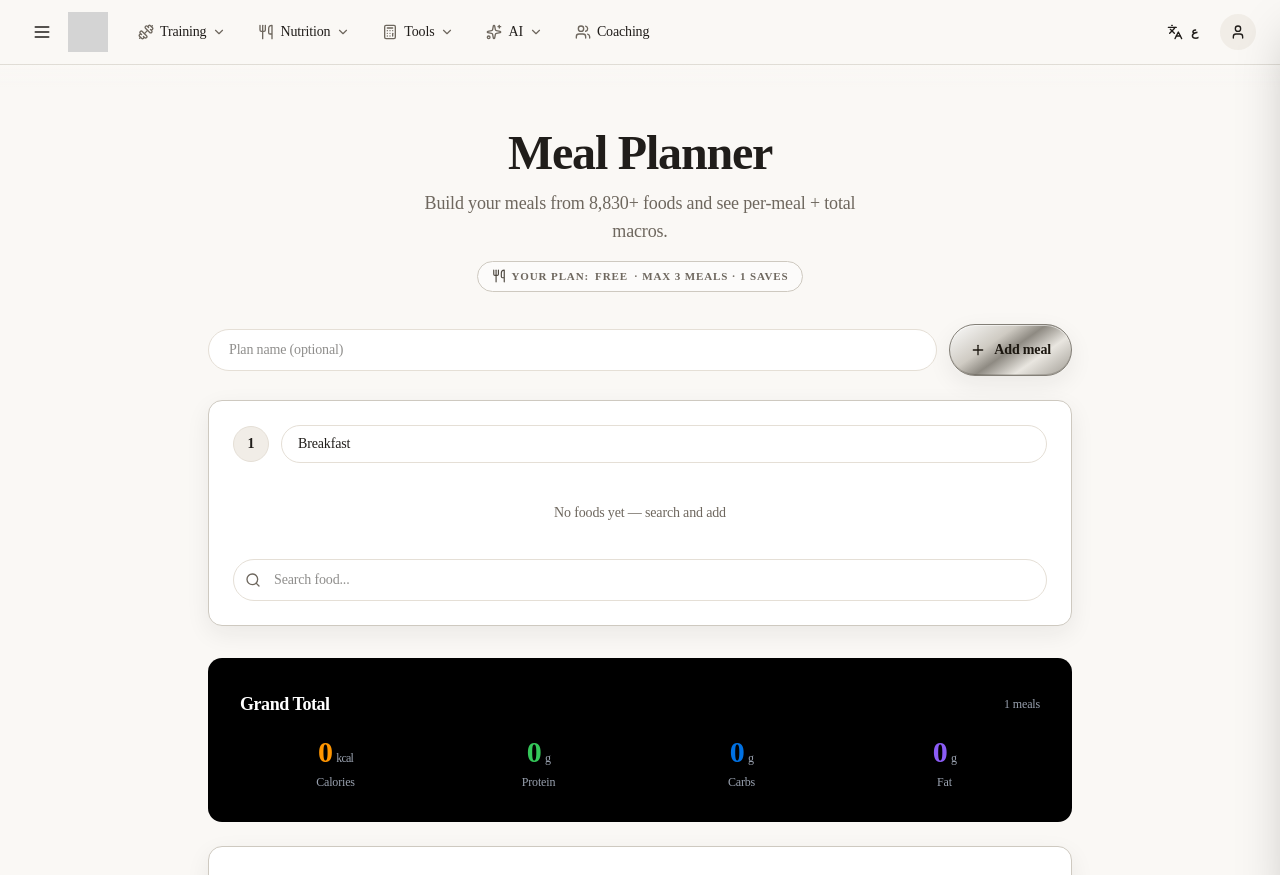
Test: W1-4c behavior — the real page through the B-03 race › clearing the query mid-flight: request aborted, surface reset, spinner dropped
Type "chick" into the field with placeholder "بحث عن صنف غذائي..." at (640, 580), box [233,558,1047,600]
Wait 300 ms
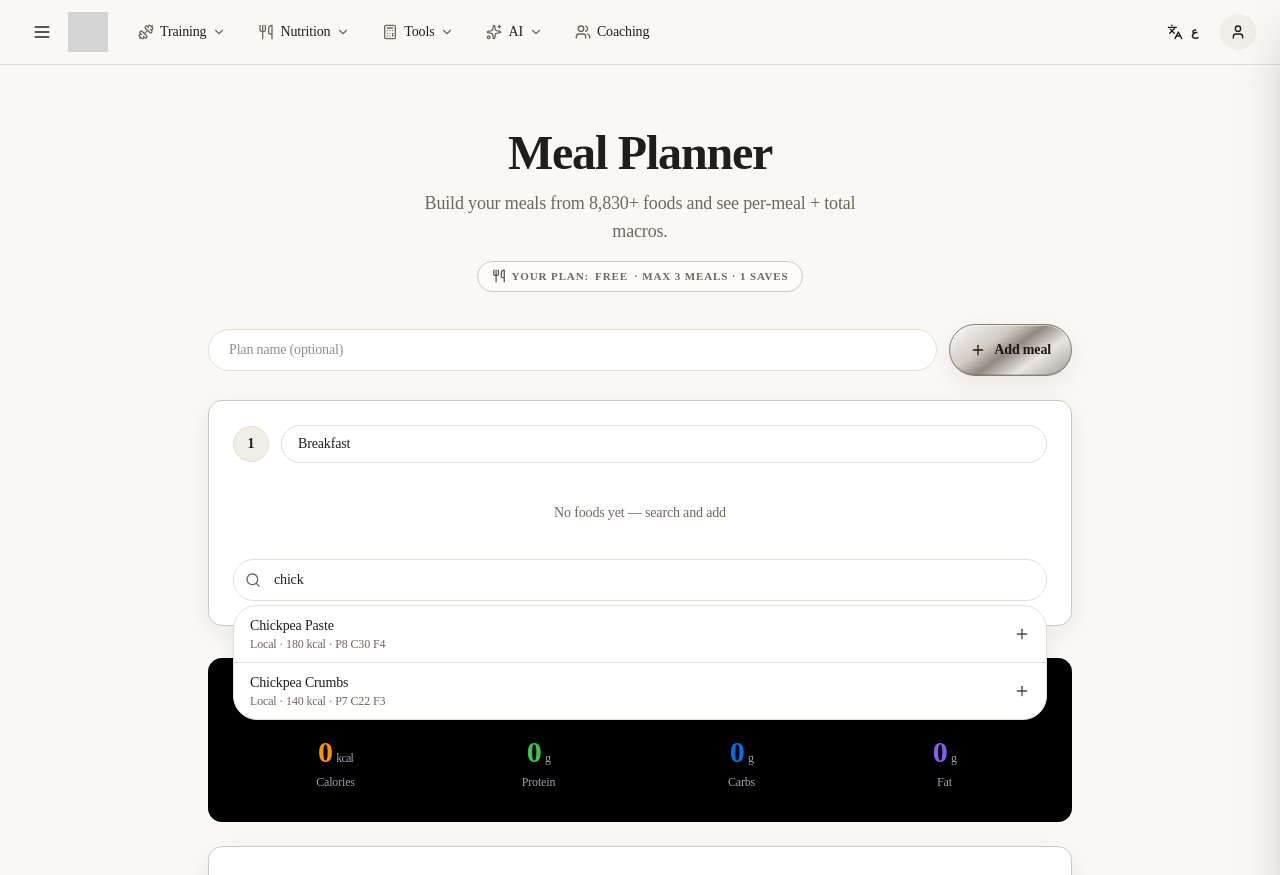
expect the element with class "z-20" is shown: met, box [233,604,1047,720]
Replace the text in the 2nd field with placeholder "بحث عن صنف غذائي..." with "chicken" at (640, 580), box [233,558,1047,600]
Wait 300 ms
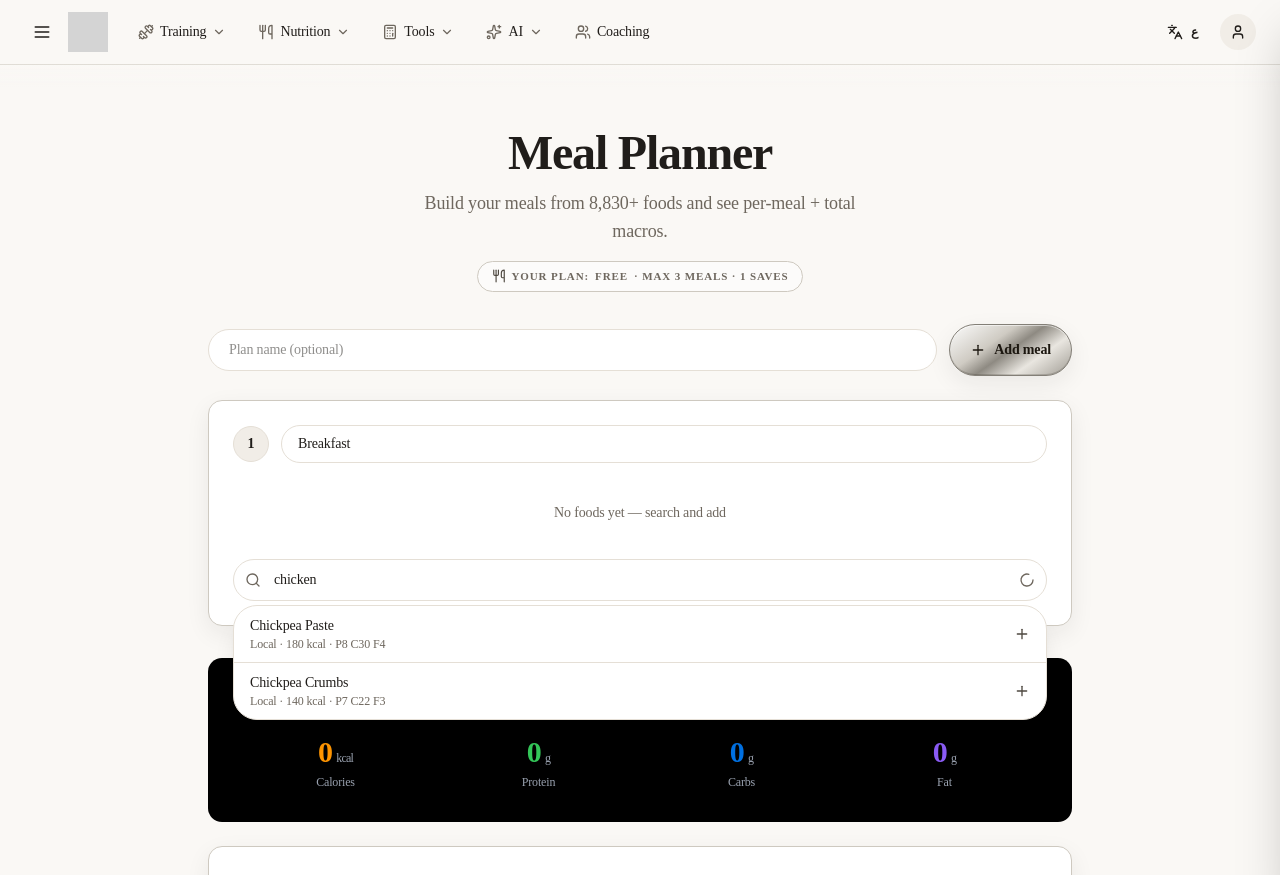
expect the icon with class "animate-spin" is shown: met, box [1019,572,1035,588]
Clear the 2nd field with placeholder "بحث عن صنف غذائي..." at (640, 580), box [233,558,1047,600]
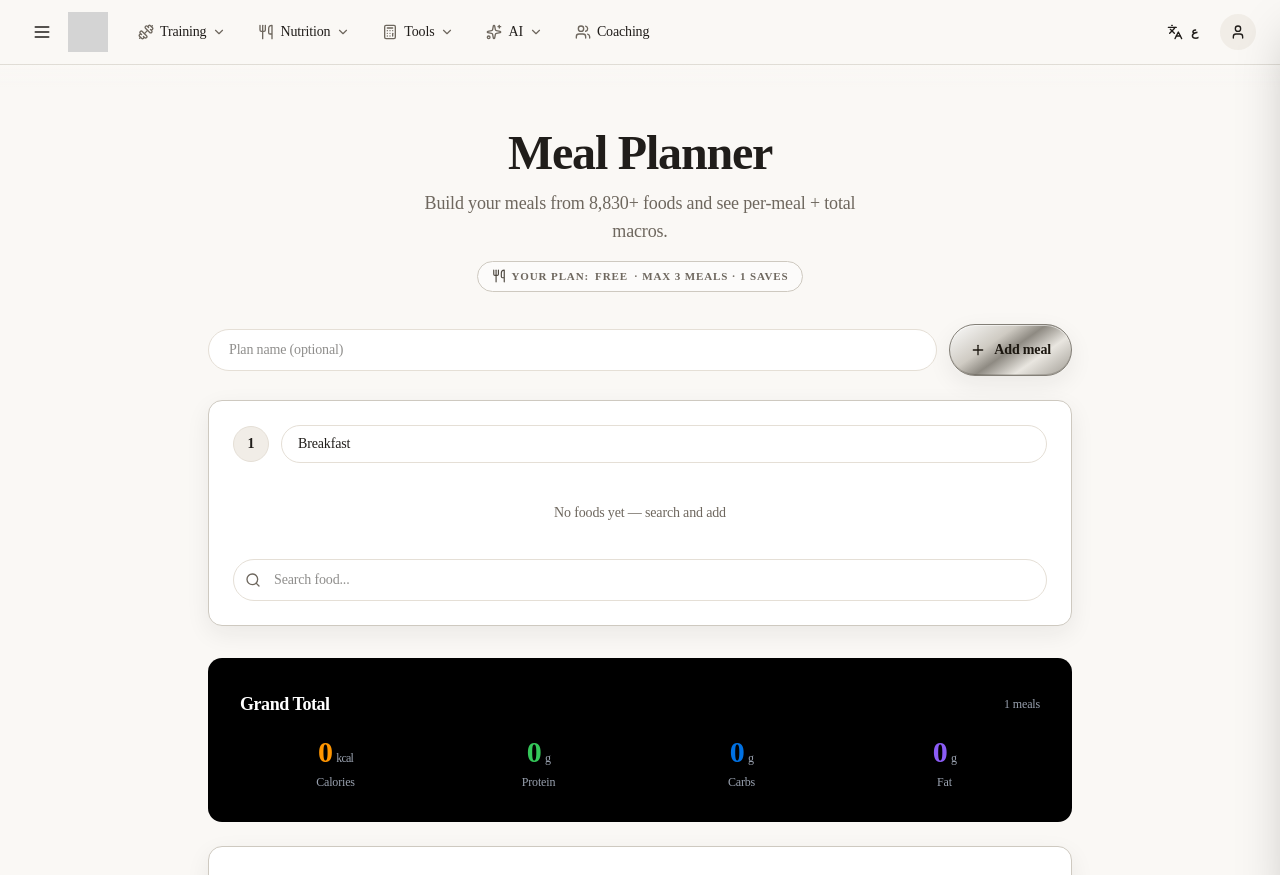
expect the element with class "z-20" is gone: met
expect the icon with class "animate-spin" is gone: met
